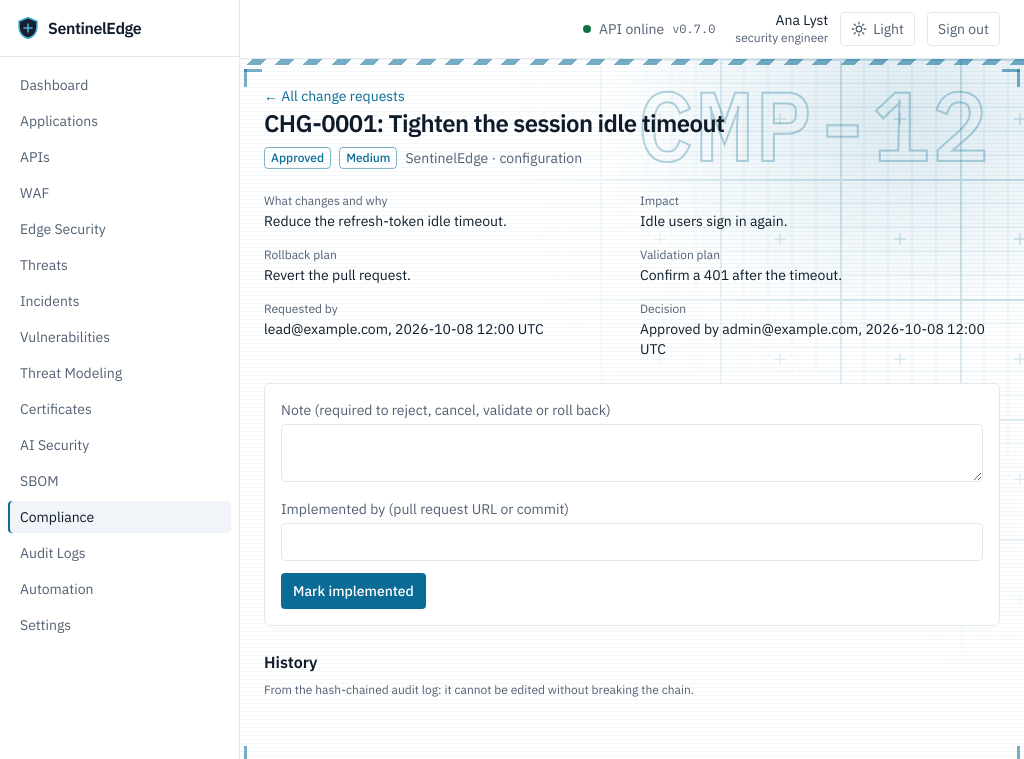
Test: Exception and change request decisions › offers only the moves the server allows and reports a stale version
Expected: the button "Mark implemented" is shown, [281,573,426,609]
Type "https://github.com/x/y/pull/9" into the field labelled "Implemented by (pull request URL or commit)".
click(632, 542); type("https://github.com/x/y/pull/9")  # box [281,523,983,561]
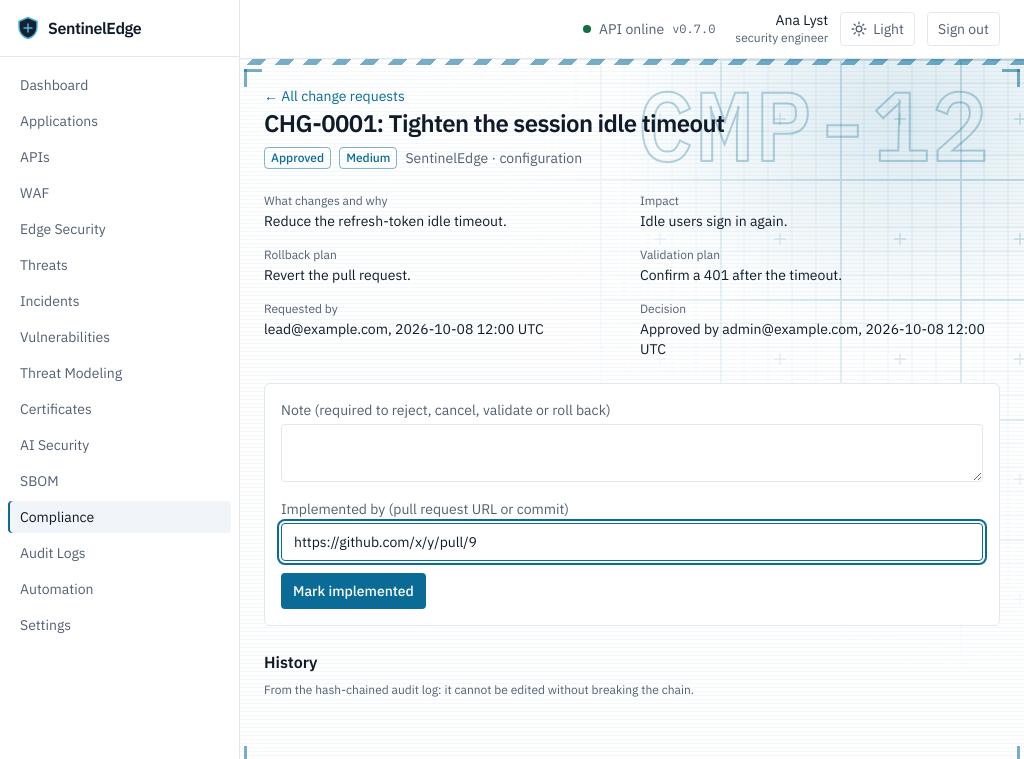
Click the button "Mark implemented".
click(353, 591)  # box [281,573,426,609]
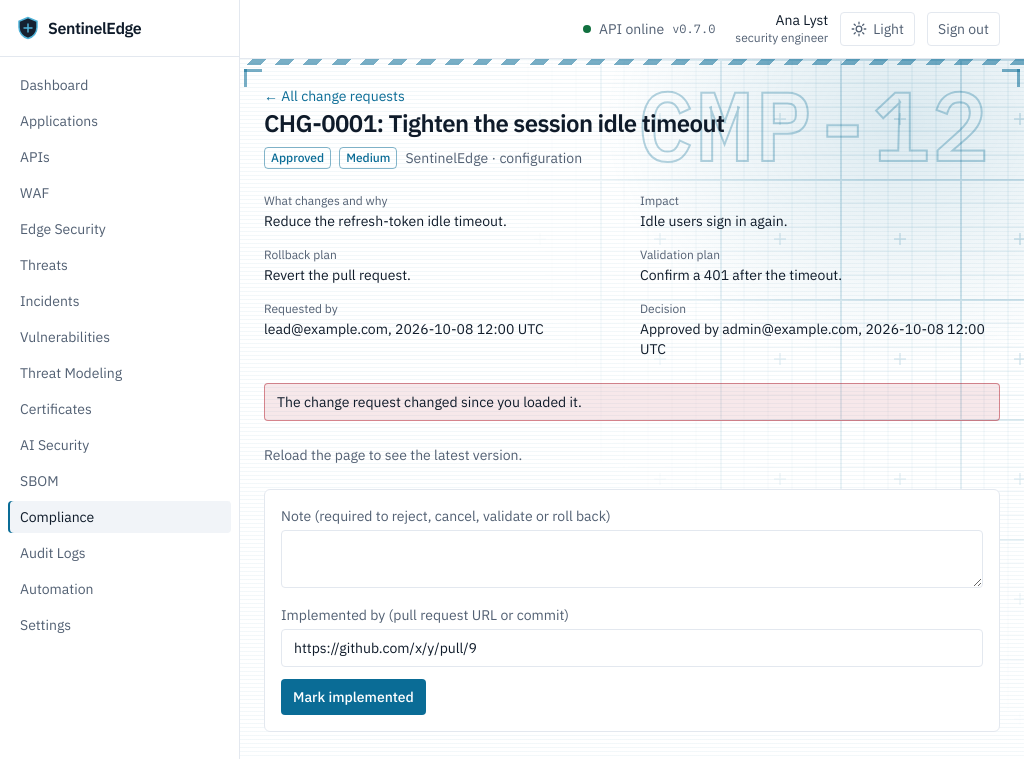
Expected: the text "Reload the page to see the latest version." is shown, [264,446,522,464]
